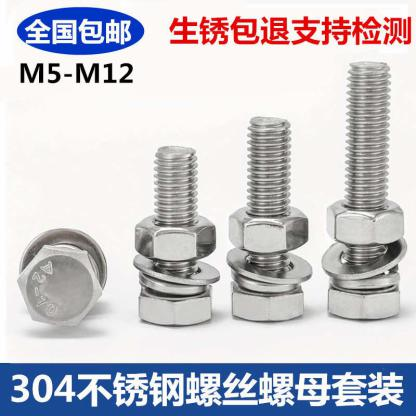FOD: (321, 58, 408, 323), (224, 113, 314, 326), (131, 143, 221, 330), (13, 224, 109, 331), (322, 194, 405, 250), (228, 201, 312, 253), (134, 212, 218, 263)
